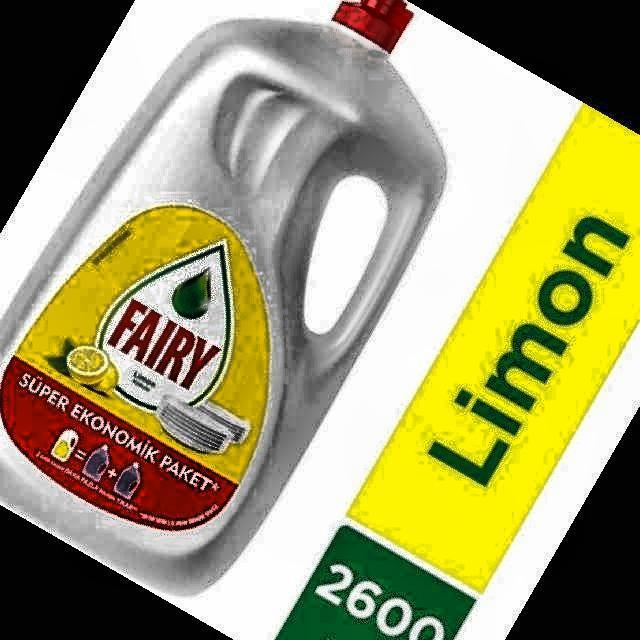plastic: (0, 0, 446, 594)
